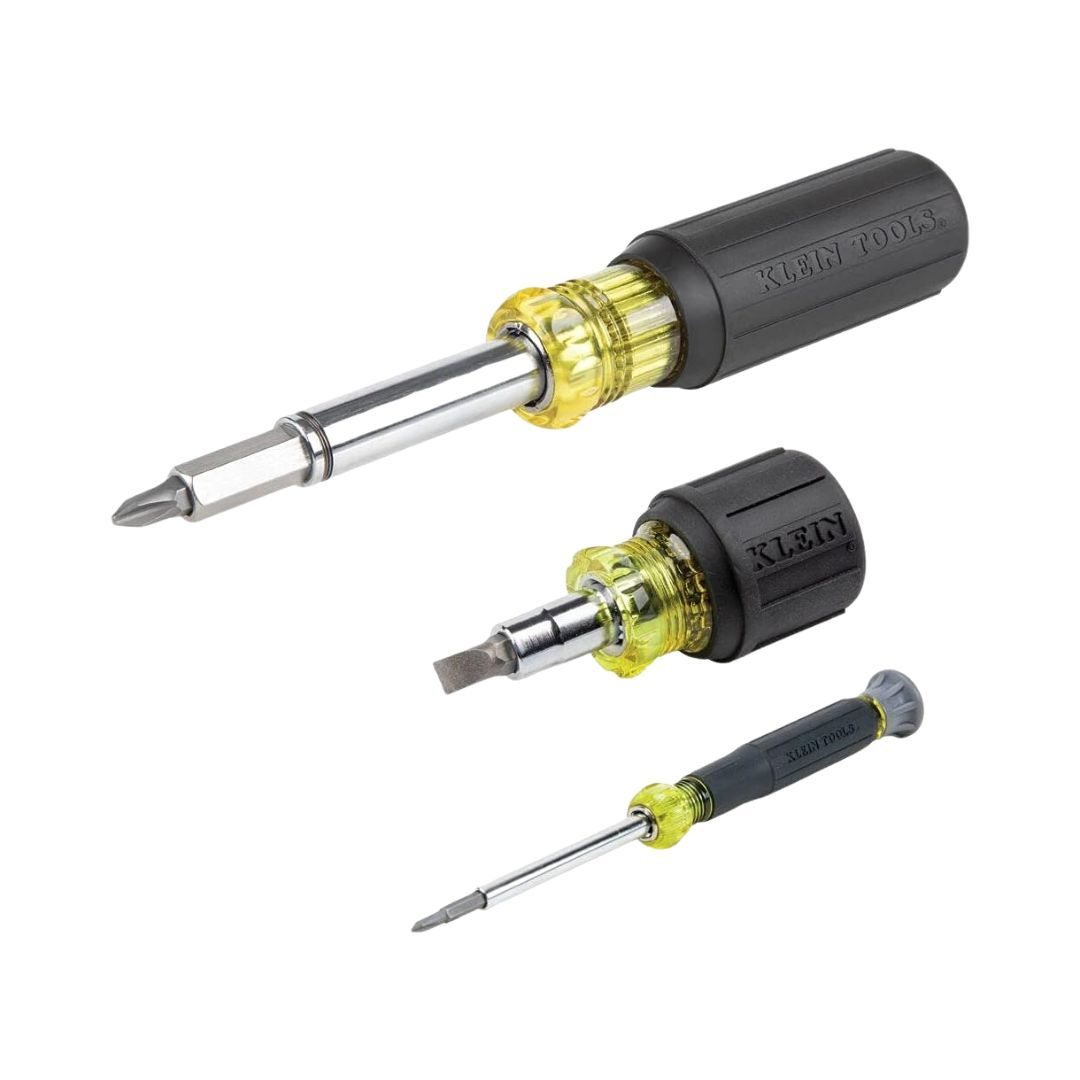screwdriver: (109, 150, 969, 531), (414, 670, 925, 933), (434, 454, 869, 696)
